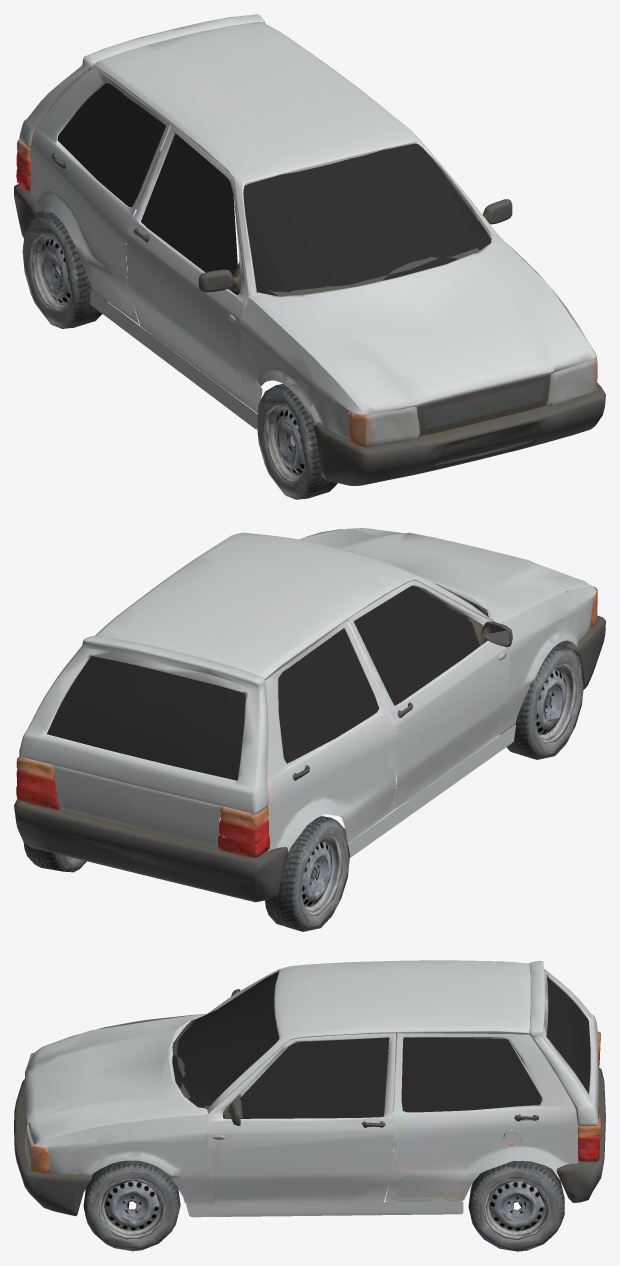
The model's file is uno-2001.glb.
The picture shows the model from 3 angles, top to bottom: view 1: azimuth 30°, elevation 25°; view 2: azimuth 150°, elevation 25°; view 3: azimuth 270°, elevation 25°; orthographic projection. The views are drawn at different scales.
Parts seen in each view (by area): view 1: Plano.001, Plano.022, Plano.016, Plano.024, Plano.025, Plano.027, Plano.017, Plano.021, Plano.018, Wheel, Wheel.001, Plano.028 (+7 smaller); view 2: Plano.022, Plano.023, Plano.005, Plano.025, Plano.024, Plano.033, Plano.001, Plano.017, Plano.018, Wheel, Plano.021, Wheel.001 (+4 smaller); view 3: Plano.022, Plano.024, Plano.025, Plano.001, Plano.017, Plano.018, Plano.021, Plano.016, Wheel, Wheel.001, Plano.023, Plano.026 (+6 smaller).
Part boxes in pixels (bbox=[...]): Plano.001: bbox=[249, 235, 594, 414]; Plano.022: bbox=[93, 21, 498, 301]; Plano.016: bbox=[243, 143, 491, 296]; Plano.024: bbox=[126, 124, 248, 401]; Plano.025: bbox=[30, 67, 170, 324]; Plano.027: bbox=[313, 383, 605, 485]; Plano.017: bbox=[141, 133, 239, 294]; Plano.021: bbox=[239, 243, 596, 438]; Plano.018: bbox=[57, 83, 165, 207]; Wheel: bbox=[22, 212, 106, 328]; Wheel.001: bbox=[256, 384, 337, 499]; Plano.028: bbox=[348, 356, 597, 447]; Plano.022: bbox=[95, 532, 494, 680]; Plano.023: bbox=[19, 635, 268, 847]; Plano.005: bbox=[47, 656, 245, 780]; Plano.025: bbox=[265, 620, 396, 851]; Plano.024: bbox=[348, 580, 509, 809]; Plano.033: bbox=[14, 799, 288, 902]; Plano.001: bbox=[299, 528, 591, 623]; Plano.017: bbox=[354, 586, 487, 705]; Plano.018: bbox=[278, 628, 379, 763]; Wheel: bbox=[23, 816, 349, 931]; Plano.021: bbox=[299, 529, 596, 735]; Wheel.001: bbox=[282, 644, 584, 759]; Plano.022: bbox=[207, 960, 530, 1114]; Plano.024: bbox=[207, 1033, 395, 1203]; Plano.025: bbox=[385, 1033, 577, 1201]; Plano.001: bbox=[25, 1013, 208, 1144]; Plano.017: bbox=[223, 1037, 389, 1118]; Plano.018: bbox=[401, 1037, 541, 1112]; Plano.021: bbox=[35, 1014, 214, 1203]; Plano.016: bbox=[172, 971, 279, 1108]; Wheel: bbox=[468, 1104, 564, 1251]; Wheel.001: bbox=[83, 1123, 180, 1251]; Plano.023: bbox=[529, 961, 598, 1126]; Plano.026: bbox=[186, 1100, 463, 1217].
Bounding box in the file's own units: 1.32 × 1.02 × 2.64.
Materials: 4 (3 with a texture image).
